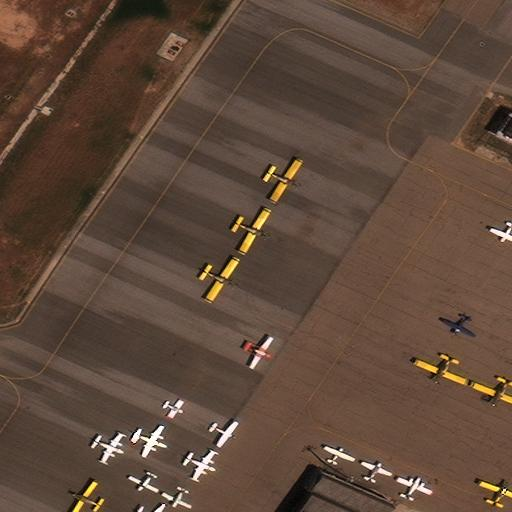Medium Civil Transport: (201, 260, 240, 303), (233, 211, 271, 254), (265, 162, 303, 204), (413, 357, 465, 385), (469, 379, 511, 408)
Small Civil Transport: (133, 426, 166, 457), (70, 481, 101, 511), (243, 339, 273, 369), (184, 453, 216, 479), (93, 436, 123, 463), (480, 480, 511, 506), (398, 476, 432, 499), (440, 317, 473, 338), (210, 424, 238, 447), (363, 461, 393, 481), (325, 444, 356, 463), (162, 488, 189, 508), (128, 473, 156, 492), (488, 223, 511, 243), (163, 402, 184, 418)
